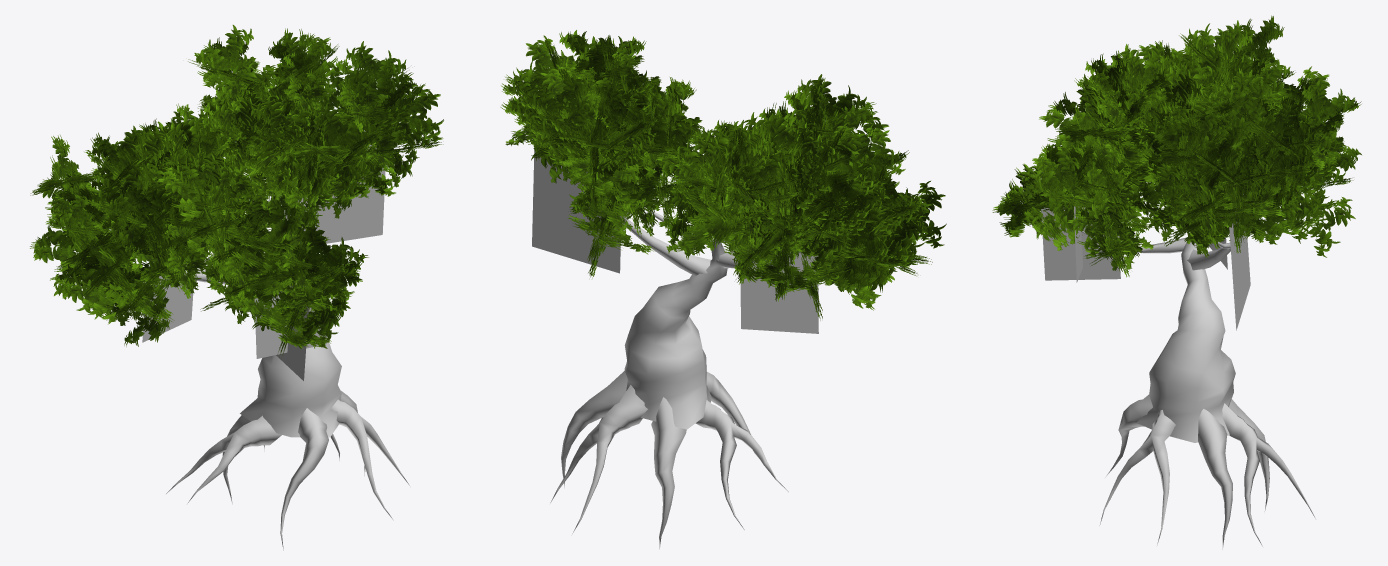
The model's file is TreeB.FBX.
The picture shows the model from 3 angles, left to right: view 1: azimuth 30°, elevation 25°; view 2: azimuth 150°, elevation 25°; view 3: azimuth 270°, elevation 25°; orthographic projection. The views are drawn at different scales.
Visible parts, largest first — view 1: TreeB_leaves, TreeB, Plane3532; view 2: TreeB_leaves, TreeB, Plane3532; view 3: TreeB_leaves, TreeB, Plane3532.
Boxes of the visible parts, x1,y1,x2,y2 form: TreeB_leaves: (30, 25, 443, 357); TreeB: (143, 195, 409, 550); Plane3532: (142, 145, 385, 380); TreeB_leaves: (500, 30, 946, 320); TreeB: (550, 210, 788, 549); Plane3532: (532, 150, 818, 333); TreeB_leaves: (992, 15, 1361, 277); TreeB: (1082, 182, 1315, 549); Plane3532: (1041, 194, 1250, 330).
Size of the model in its own units: 280 by 305 by 230.
